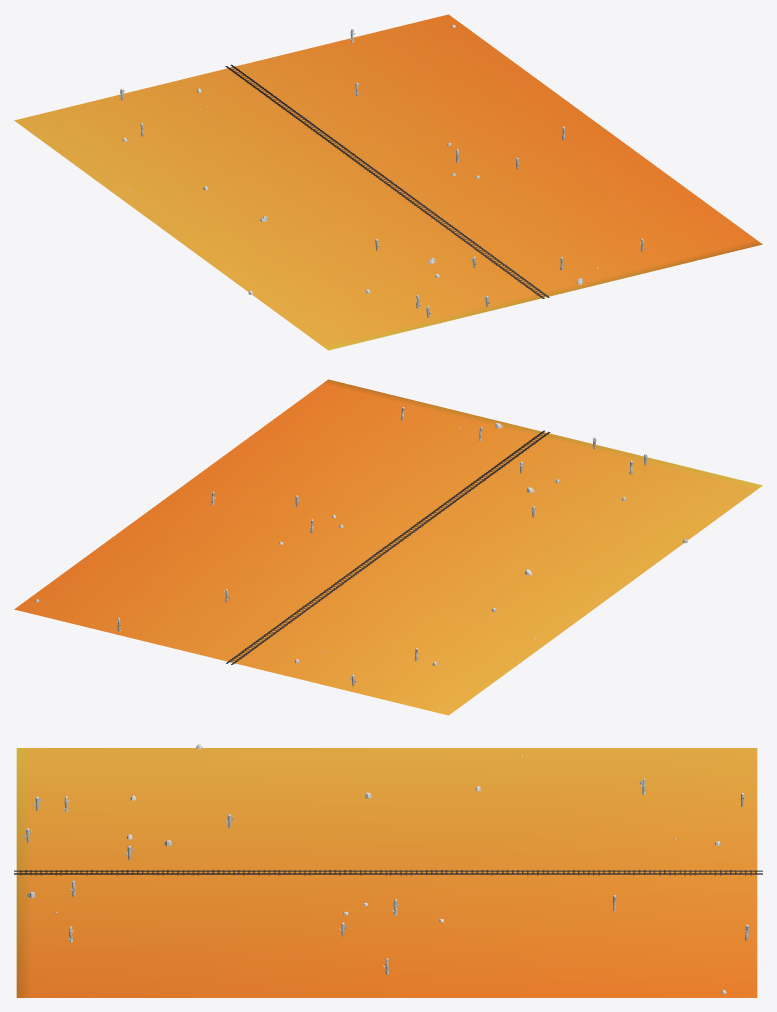
File: Lvl_Version_04.fbx
3 renders of one model, top to bottom at view 1: azimuth 30°, elevation 25°; view 2: azimuth 150°, elevation 25°; view 3: azimuth 270°, elevation 25°, orthographic. The views are drawn at different scales.
Visible parts, largest first — view 1: level_05; view 2: level_05; view 3: level_05.
Boxes of the visible parts, x1,y1,x2,y2 form: level_05: (14, 14, 762, 350); level_05: (14, 379, 762, 715); level_05: (14, 744, 762, 997).
Bounding box in the file's own units: 16091 × 466 × 20276.
